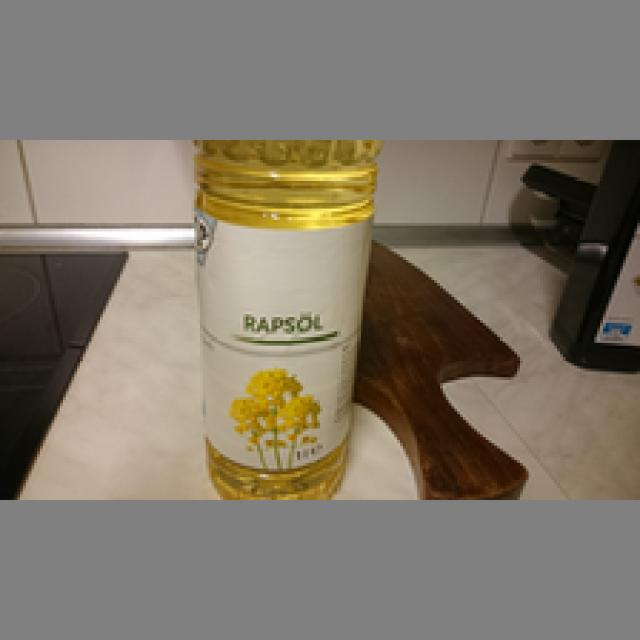groceries: (189, 137, 377, 497)
